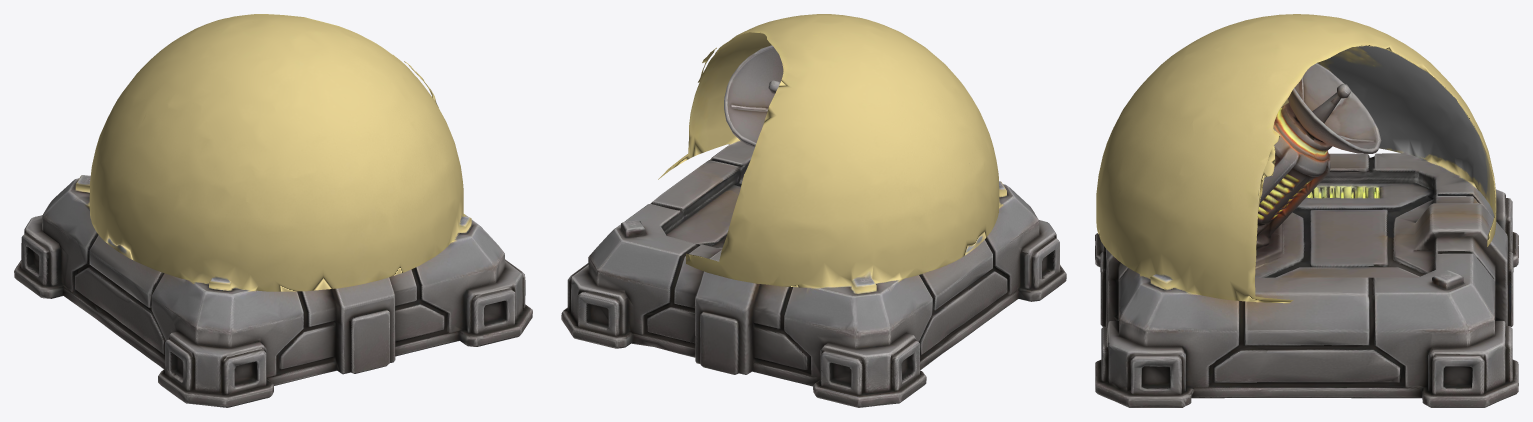
The model's file is shield.glb.
The picture shows the model from 3 angles, left to right: view 1: azimuth 30°, elevation 25°; view 2: azimuth 150°, elevation 25°; view 3: azimuth 270°, elevation 25°; orthographic projection. The views are drawn at different scales.
Visible parts, largest first — view 1: tripo_node_a17804f3-33ce-4278-8e40-56d8f92cda49; view 2: tripo_node_a17804f3-33ce-4278-8e40-56d8f92cda49; view 3: tripo_node_a17804f3-33ce-4278-8e40-56d8f92cda49.
Boxes of the visible parts, x1,y1,x2,y2 form: tripo_node_a17804f3-33ce-4278-8e40-56d8f92cda49: (14,14,532,407); tripo_node_a17804f3-33ce-4278-8e40-56d8f92cda49: (561,14,1066,407); tripo_node_a17804f3-33ce-4278-8e40-56d8f92cda49: (1095,14,1518,407).
Size of the model in its own units: 0.9989 by 0.7494 by 1.
1 material, 1 textured.
